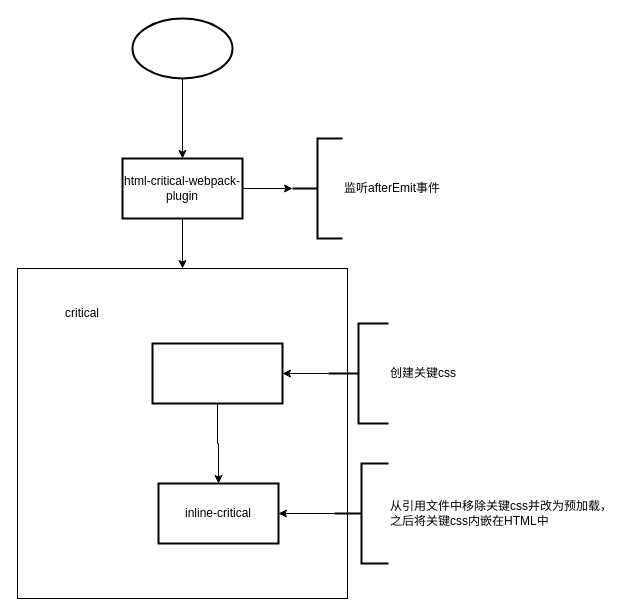
Image size: 630x616. Some labels were removed from this diagram. Here are the shapes that lost their labels. From the top down, the box of each, then its label:
(131, 17, 233, 79): 开始
(151, 342, 283, 404): penthouse
